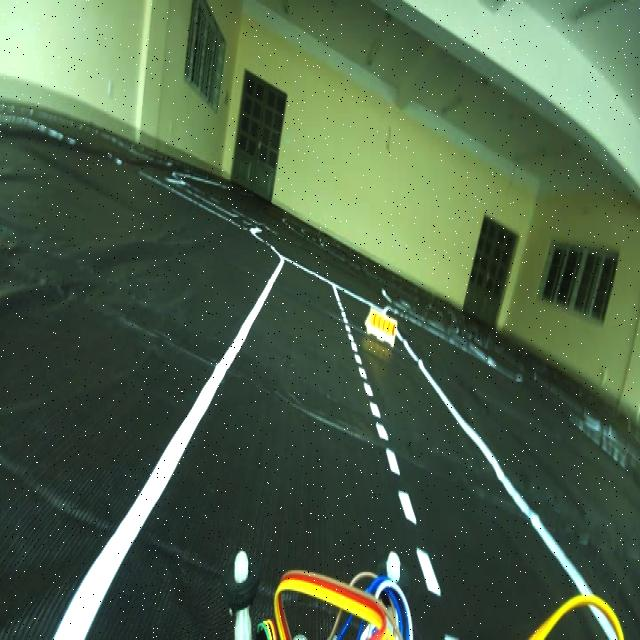roadblock: (359, 296, 405, 354)
